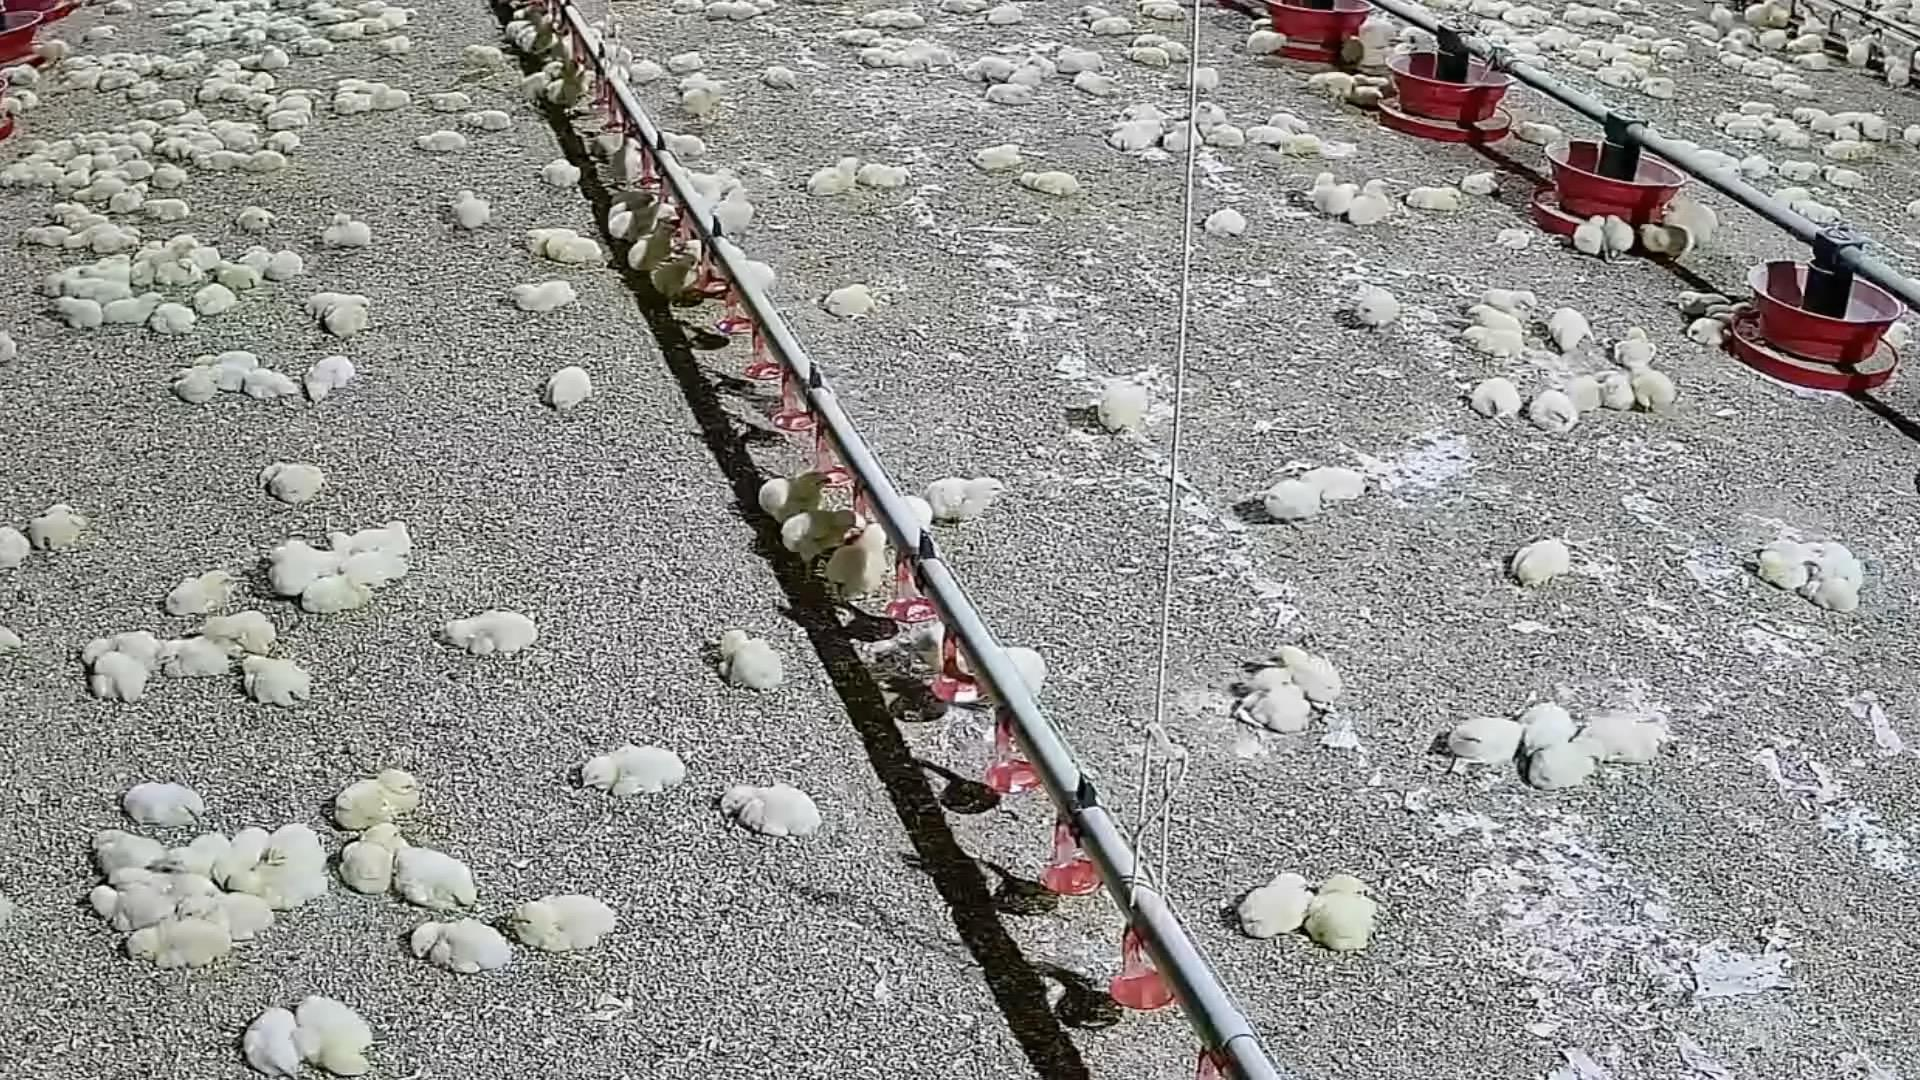poussin: (509, 893, 626, 952), (397, 919, 513, 977), (298, 996, 372, 1077), (127, 915, 232, 971), (332, 762, 418, 829), (1311, 869, 1377, 952), (398, 847, 476, 914), (723, 786, 825, 836), (236, 1001, 302, 1076), (338, 827, 400, 901), (584, 748, 682, 794), (442, 611, 542, 653), (716, 624, 782, 687), (1580, 715, 1669, 761), (1245, 873, 1312, 934), (927, 476, 1007, 525), (243, 653, 315, 707), (1441, 720, 1527, 765), (117, 783, 214, 823), (92, 887, 174, 934), (1247, 670, 1307, 733), (786, 512, 858, 563), (832, 525, 884, 597), (161, 825, 235, 876), (1280, 644, 1338, 707), (1523, 745, 1610, 786), (178, 902, 277, 936), (102, 868, 225, 894), (760, 473, 829, 520), (223, 876, 336, 903), (87, 646, 145, 699), (204, 613, 277, 655), (269, 551, 343, 592), (1514, 537, 1575, 585), (993, 649, 1047, 702), (79, 633, 161, 667), (334, 520, 411, 555), (133, 233, 203, 273), (1105, 376, 1147, 440), (1749, 545, 1825, 580), (1818, 539, 1871, 591), (1633, 368, 1685, 419), (305, 353, 359, 404), (1522, 700, 1569, 757), (607, 203, 679, 240), (216, 825, 268, 877), (505, 280, 579, 315), (169, 572, 232, 613), (265, 816, 315, 868), (1458, 324, 1527, 361), (32, 505, 86, 551), (305, 574, 373, 609), (102, 291, 167, 328), (1265, 480, 1317, 526), (160, 642, 236, 674), (345, 550, 417, 583), (543, 365, 595, 410), (260, 464, 324, 500), (909, 620, 948, 678), (715, 181, 754, 237), (84, 837, 170, 862), (1481, 281, 1539, 318), (1532, 394, 1580, 439), (629, 223, 673, 272), (1468, 303, 1528, 338), (808, 156, 861, 194), (1667, 196, 1706, 247), (1636, 225, 1688, 264), (659, 255, 699, 303), (542, 236, 603, 268), (1808, 579, 1858, 617), (1556, 303, 1594, 353), (517, 61, 566, 99), (1303, 471, 1370, 498), (542, 71, 596, 105), (320, 211, 371, 248), (889, 493, 930, 538), (1611, 328, 1663, 364), (1021, 166, 1080, 196), (1469, 380, 1514, 419), (1561, 372, 1606, 411), (604, 135, 642, 181), (91, 223, 146, 255), (1346, 186, 1395, 222), (1105, 120, 1162, 150), (75, 171, 127, 204), (1357, 286, 1400, 324), (50, 297, 100, 330), (62, 219, 112, 252), (1122, 44, 1179, 73), (542, 157, 588, 193), (735, 261, 781, 297), (1880, 46, 1912, 98), (1313, 174, 1349, 219), (306, 291, 369, 316), (982, 79, 1039, 107), (1604, 216, 1640, 258), (683, 73, 732, 103), (1305, 69, 1354, 99), (1403, 185, 1465, 208), (322, 306, 368, 338), (1673, 293, 1731, 318), (158, 135, 227, 156), (171, 371, 219, 401), (240, 375, 294, 401), (972, 142, 1026, 169), (452, 190, 493, 224), (1572, 215, 1607, 253), (829, 286, 874, 316), (1822, 160, 1867, 190), (857, 165, 916, 187), (211, 264, 261, 290), (1461, 164, 1497, 200), (683, 83, 717, 120), (150, 303, 194, 332), (522, 223, 575, 247), (141, 99, 194, 123), (191, 290, 243, 314), (1244, 30, 1295, 54), (21, 224, 75, 247), (232, 244, 270, 276), (1204, 208, 1247, 236), (1604, 375, 1633, 415), (0, 529, 33, 564), (269, 252, 305, 285), (526, 18, 562, 51), (1199, 121, 1241, 149), (1242, 117, 1284, 145), (1275, 137, 1327, 160), (40, 278, 112, 294), (662, 131, 705, 157), (189, 353, 266, 368), (603, 194, 655, 215), (1792, 203, 1845, 224), (464, 109, 516, 131), (1842, 22, 1863, 74), (1398, 29, 1433, 59), (1073, 74, 1118, 98), (972, 4, 1022, 25), (589, 128, 629, 154), (244, 152, 290, 174), (1365, 13, 1394, 49), (425, 94, 473, 115), (100, 66, 141, 91), (96, 160, 152, 178), (1093, 20, 1145, 40), (972, 51, 1017, 74), (460, 46, 502, 70), (414, 135, 471, 152), (1352, 84, 1385, 113), (198, 150, 248, 169), (760, 67, 796, 92), (69, 63, 104, 88), (1174, 127, 1204, 156), (78, 268, 133, 284), (153, 164, 190, 187), (1192, 96, 1225, 123), (376, 83, 410, 108), (1054, 54, 1108, 70), (1503, 222, 1532, 251), (120, 185, 148, 215), (215, 127, 255, 148), (0, 330, 22, 367), (1597, 67, 1635, 88), (1758, 30, 1793, 53), (1751, 150, 1776, 182), (145, 200, 191, 218), (0, 67, 42, 86), (1782, 158, 1824, 177), (1746, 1, 1783, 22), (269, 111, 314, 128), (629, 58, 663, 80), (0, 622, 25, 653), (1651, 38, 1689, 58), (240, 207, 281, 225), (1779, 36, 1826, 51), (26, 41, 70, 58), (1716, 0, 1742, 28), (1192, 99, 1221, 124), (1183, 70, 1217, 91), (827, 32, 887, 44), (377, 33, 409, 55), (1788, 55, 1833, 71), (266, 133, 305, 152), (377, 7, 418, 24), (294, 38, 338, 54), (1648, 78, 1676, 102), (1273, 112, 1311, 129), (882, 18, 927, 33), (100, 133, 149, 146), (83, 25, 117, 44), (284, 87, 323, 103), (1692, 326, 1731, 342), (1795, 102, 1826, 121), (1712, 299, 1758, 313), (262, 44, 289, 66), (58, 55, 102, 69), (332, 100, 372, 115), (133, 79, 165, 96), (669, 55, 709, 69), (236, 29, 266, 46), (243, 91, 273, 107), (1581, 38, 1611, 54), (71, 133, 104, 148), (198, 76, 225, 94), (38, 138, 71, 152), (54, 206, 95, 216), (17, 90, 42, 104), (1737, 102, 1780, 107), (241, 121, 262, 132)
